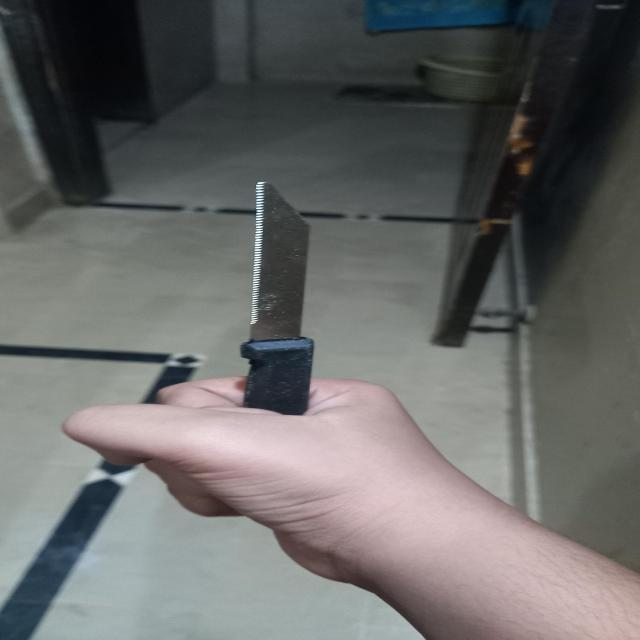Knife: (240, 178, 316, 414)
Person: (63, 375, 640, 640)
